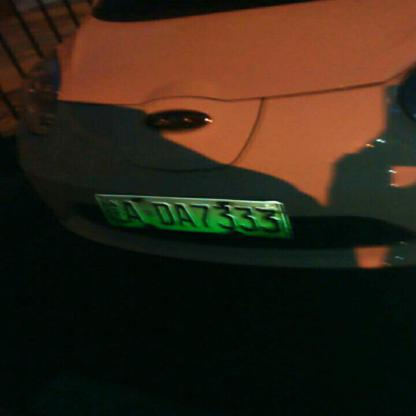lp: (94, 193, 290, 234)
